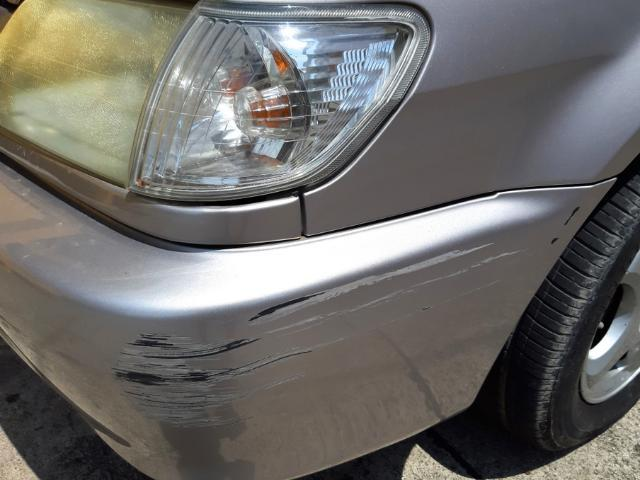Bumper: (39, 233, 523, 458)
Fender: (429, 0, 640, 195)
